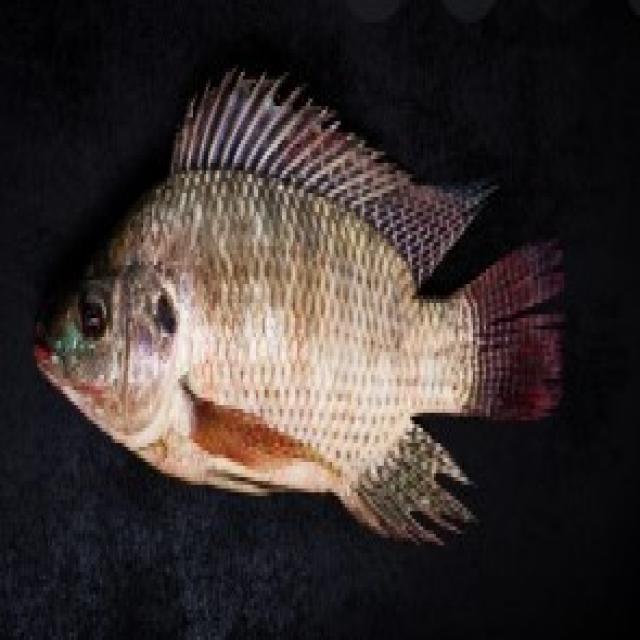ikan: (32, 61, 570, 549)
